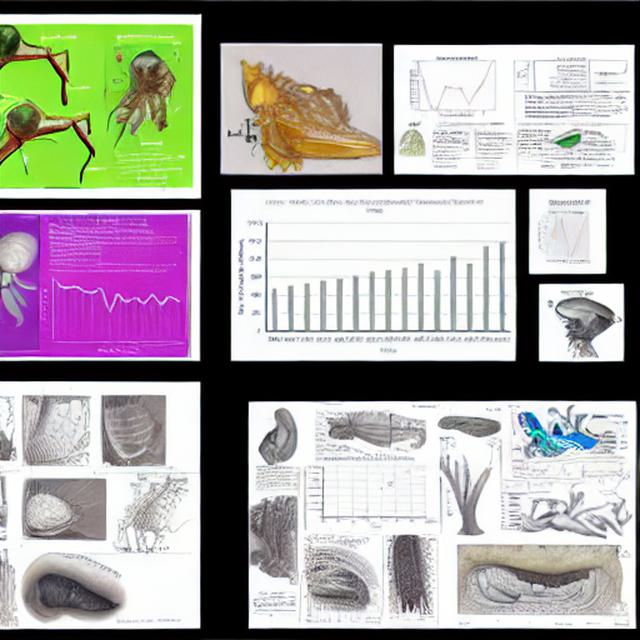Graph: (233, 193, 514, 357), (37, 266, 187, 358), (300, 455, 431, 531), (407, 48, 505, 122), (530, 207, 604, 263), (577, 457, 634, 490)
